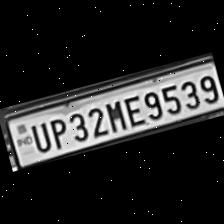2: (82, 102, 110, 139)
3: (63, 109, 90, 145), (176, 76, 200, 111)
5: (156, 80, 184, 116)
9: (192, 70, 222, 106), (137, 87, 164, 123)
E: (119, 91, 146, 128)
M: (100, 96, 128, 133)
P: (43, 114, 70, 150)
U: (24, 119, 52, 155)
